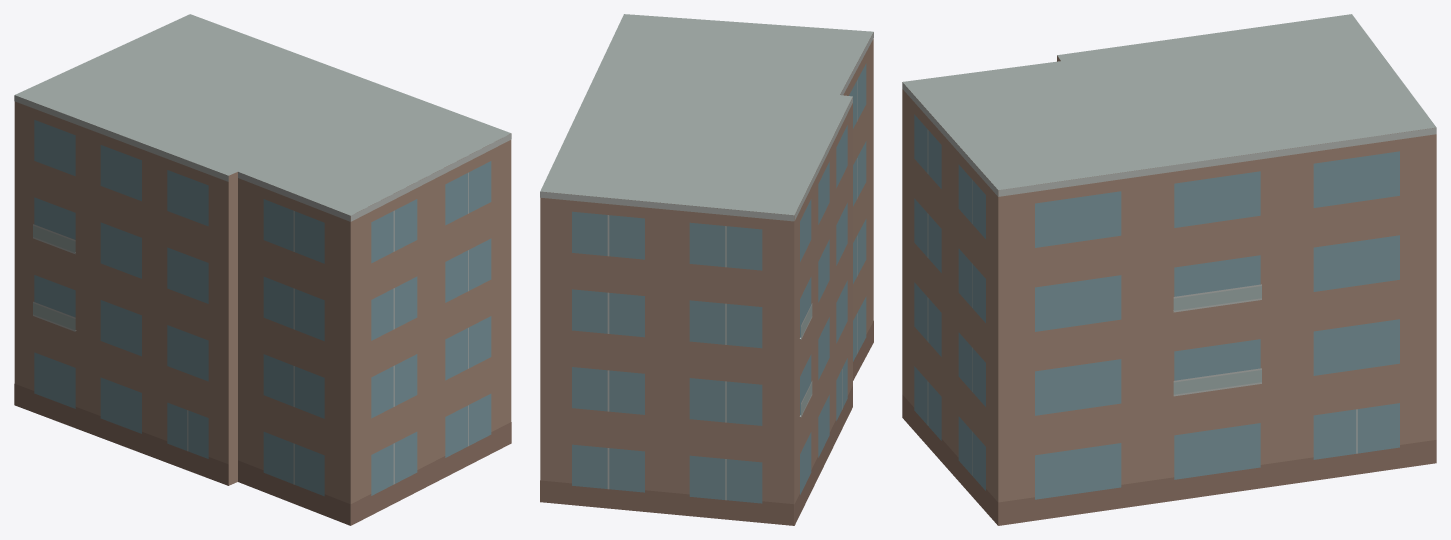
File: survey-upis-32526291.glb
The picture shows the model from 3 angles, left to right: view 1: azimuth 30°, elevation 25°; view 2: azimuth 150°, elevation 25°; view 3: azimuth 270°, elevation 25°; orthographic projection. The views are drawn at different scales.
Parts seen in each view (by area): view 1: survey-upis-32526291.tmp; view 2: survey-upis-32526291.tmp; view 3: survey-upis-32526291.tmp.
Boxes of the visible parts, x1=… form: survey-upis-32526291.tmp: x1=14, y1=14, x2=511, y2=525; survey-upis-32526291.tmp: x1=540, y1=14, x2=873, y2=525; survey-upis-32526291.tmp: x1=902, y1=14, x2=1436, y2=525.
Size of the model in its own units: 13.74 by 12.2 by 17.61.
